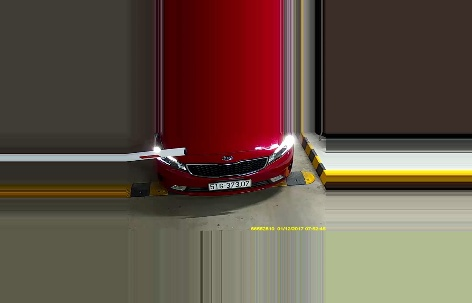plate: (203, 177, 253, 192)
